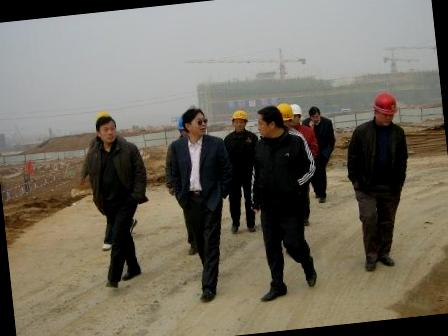no_helmet: (249, 104, 286, 140), (178, 106, 210, 142), (92, 111, 122, 148), (307, 103, 323, 124)
